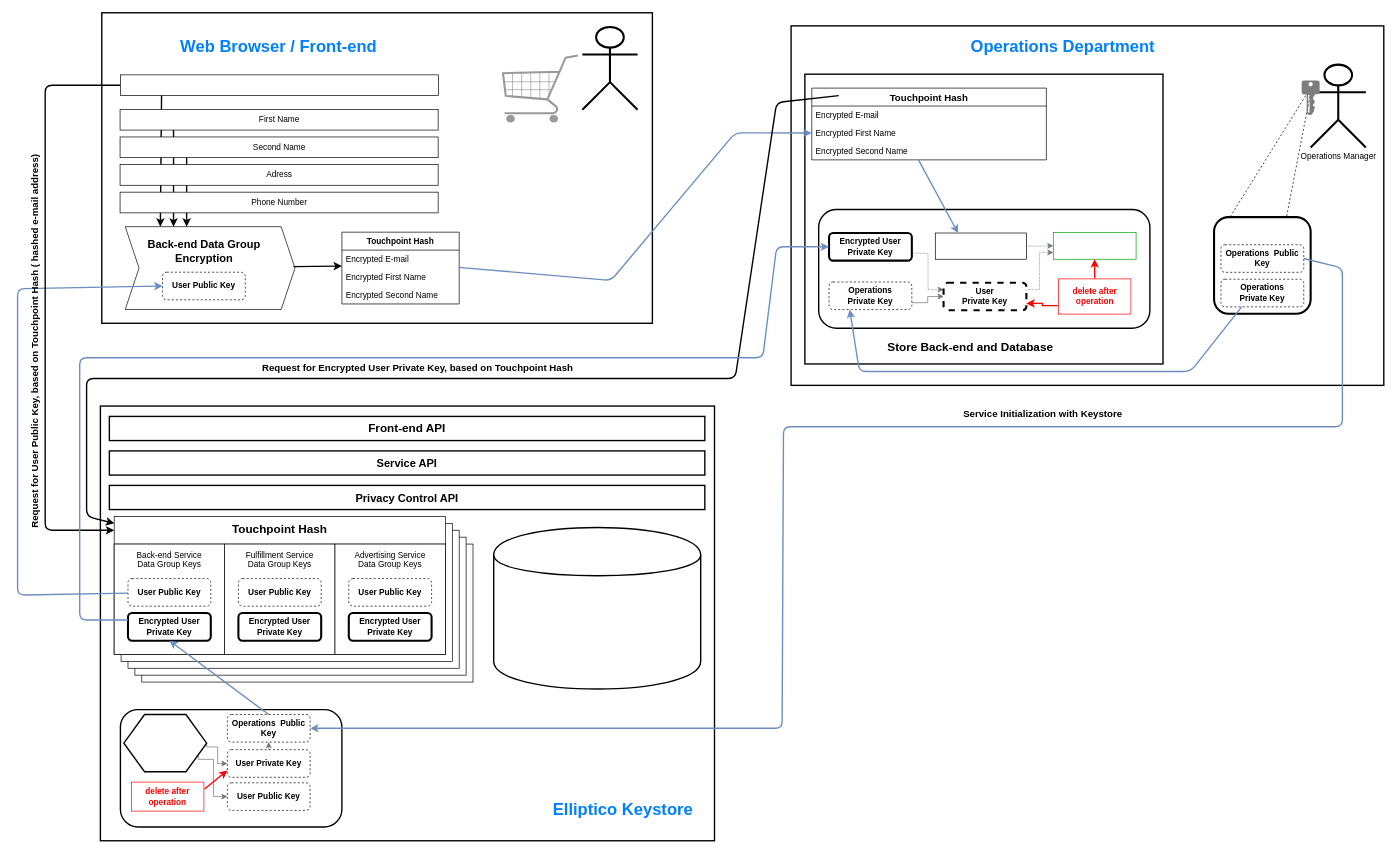
This 1396x853 diagram has some shape labels left out. Each missing label, with the box of its shape:
Asymmetric Keygen: (123, 713, 207, 772)
Customer: (581, 26, 638, 110)
Data-in-use: (818, 209, 1150, 329)
E-mail Address: (120, 74, 438, 96)
Encrypted User Data: (935, 232, 1026, 259)
Operations Key Pair: (1213, 216, 1311, 314)
Plain-text User data: (1053, 232, 1136, 259)
Privacy Event Logger: (493, 526, 701, 689)
